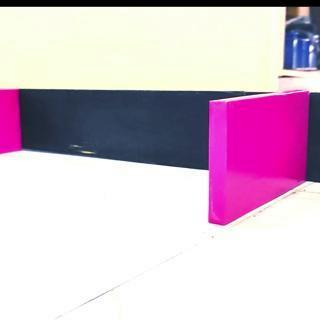xparking: (212, 99, 308, 207), (0, 88, 22, 156)
